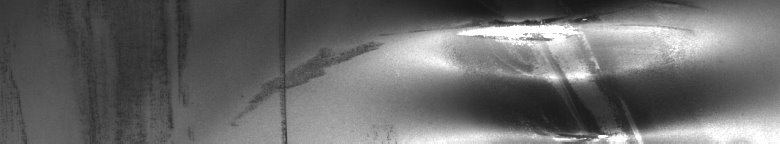ke: (455, 4, 694, 136)
